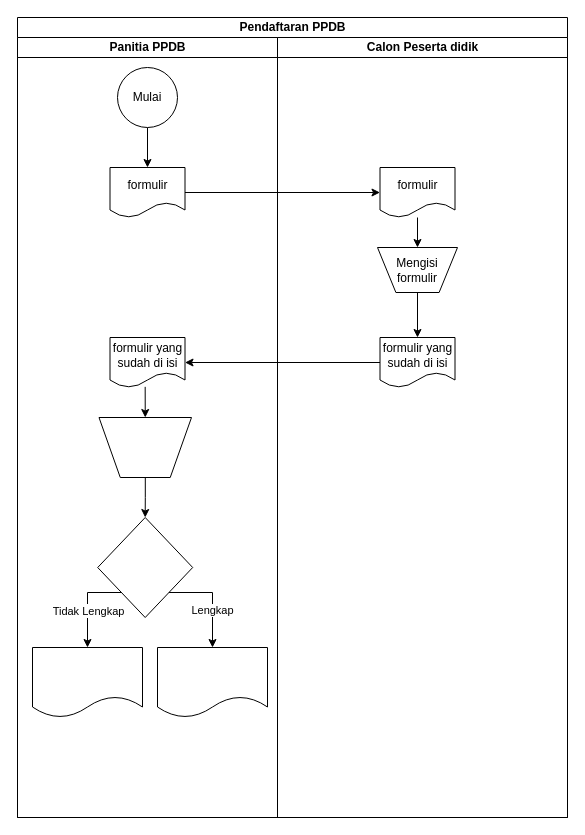
The diagram is 585 pixels wide and 835 high, and some of its shapes have lost their labels. The shapes that lost their labels are listed below. From the top down, each one's centre as x and y in pixels, then its label:
At (145,447): "Memeriksa kelengkapan formulir".
At (145,567): "formulir yang sudah periksa".
At (87,682): "Akan di kembalikan Kepada calon peserta dididk".
At (212,682): "Akan di proses Oleh panitia PPDB".
